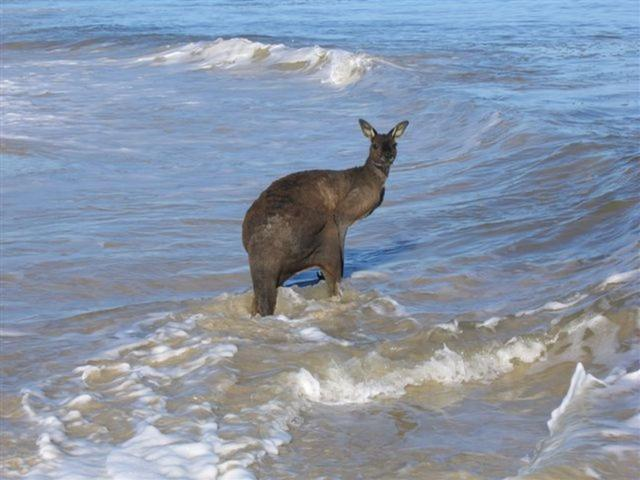kangaroo: (218, 80, 424, 364)
